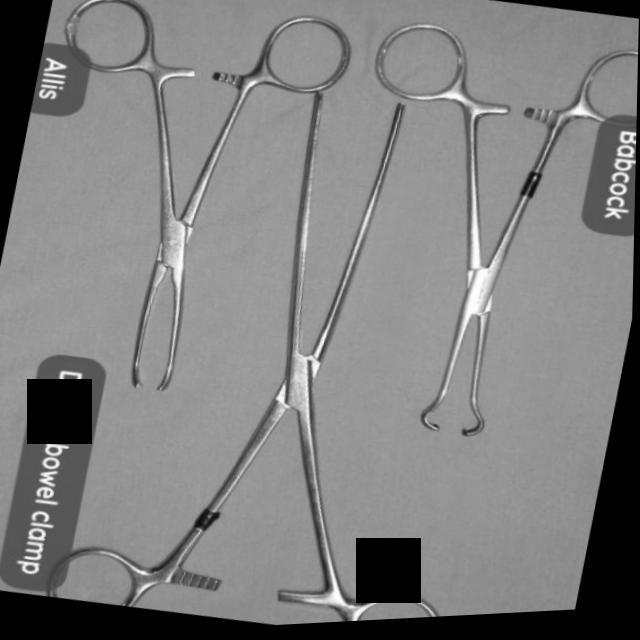Allis Forceps: (0, 0, 365, 423)
Babcock Forceps: (300, 3, 640, 480)
